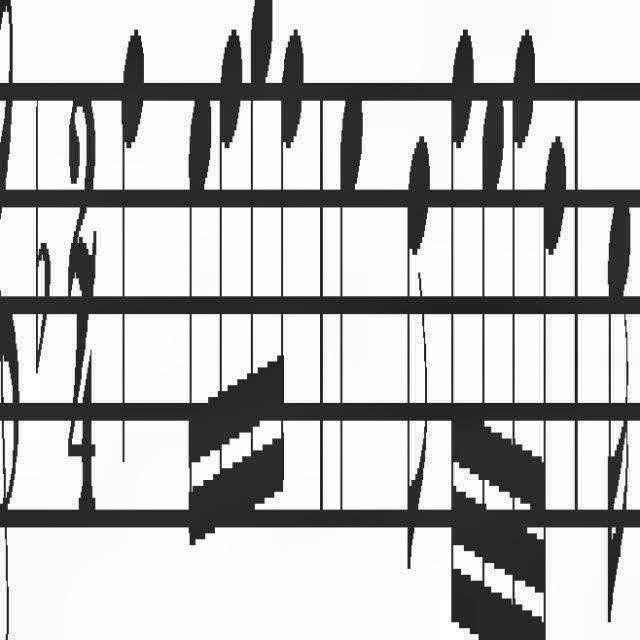Bass-clef: (1, 0, 20, 640)
Bemol: (31, 46, 53, 418)
Eighth-note: (404, 23, 432, 622)
Quarter-note: (114, 24, 150, 486), (338, 83, 366, 537)
Sixteenth-note: (213, 24, 245, 564), (186, 53, 218, 575), (247, 1, 275, 552), (601, 148, 633, 622), (276, 24, 304, 506)
